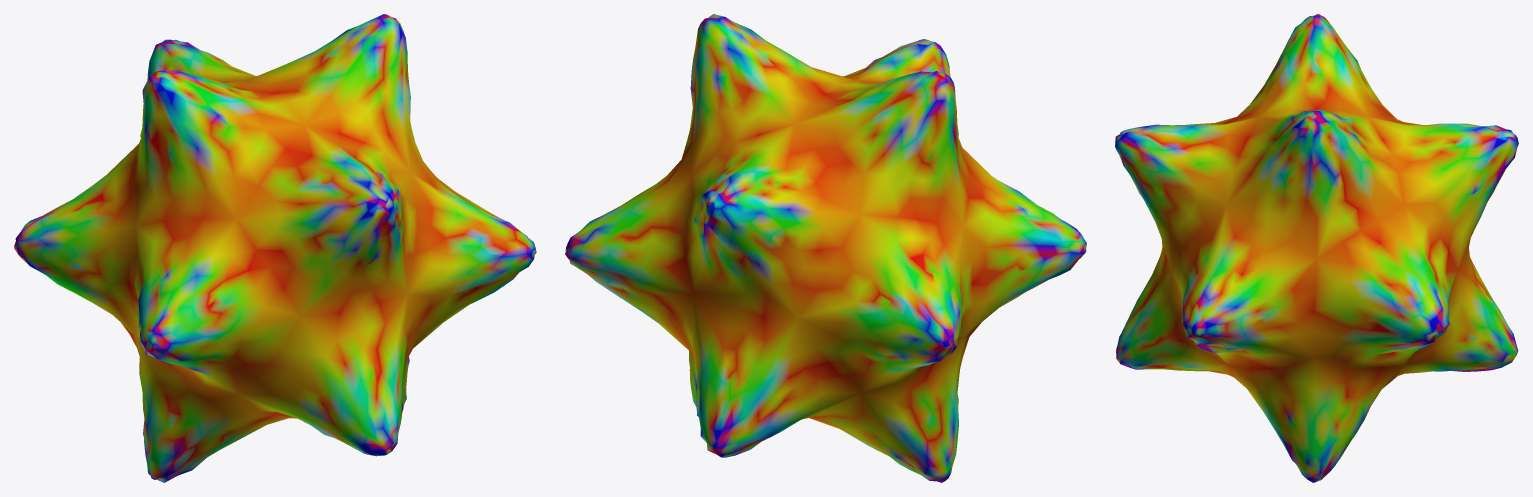
File: stella smooth punto c, e.obj
The picture shows the model from 3 angles, left to right: view 1: azimuth 30°, elevation 25°; view 2: azimuth 150°, elevation 25°; view 3: azimuth 270°, elevation 25°; orthographic projection. The views are drawn at different scales.
Bounding box in the file's own units: 2.73 × 2.75 × 2.73.
